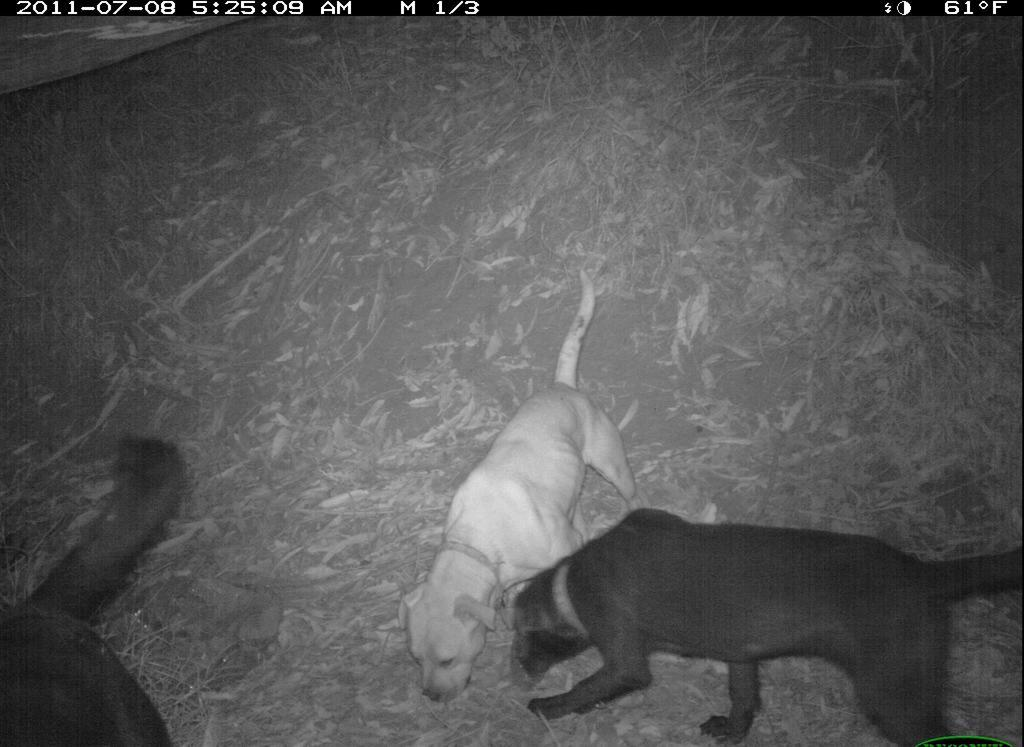dog: (488, 497, 1005, 747), (396, 255, 648, 710), (4, 415, 233, 743)
